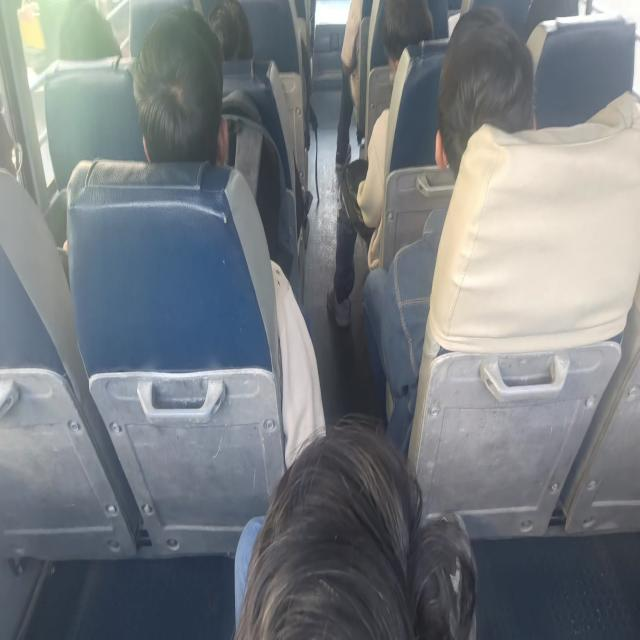person: (236, 425, 479, 640), (136, 24, 235, 181), (437, 25, 533, 171), (192, 0, 258, 71), (58, 0, 122, 64), (380, 0, 425, 80), (533, 0, 593, 36)
